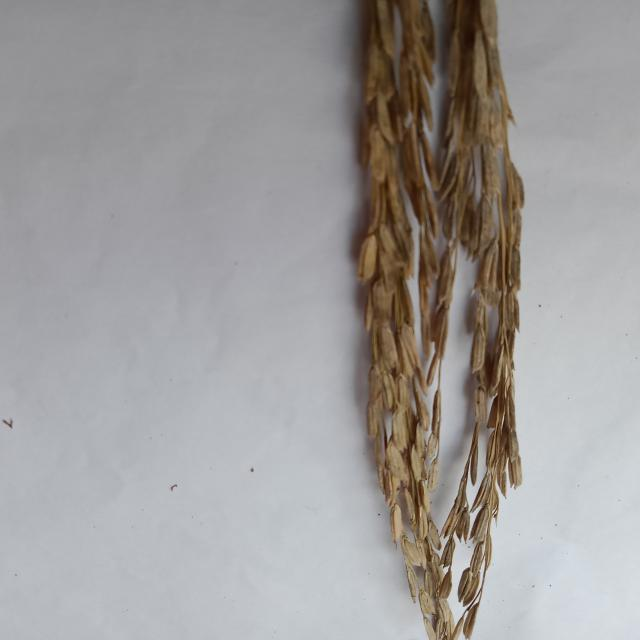Neck_Blast: (354, 0, 460, 637), (439, 1, 526, 637)
